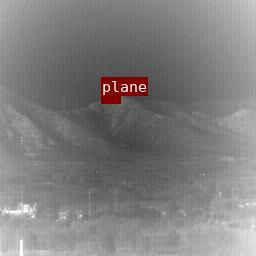plane: (101, 96, 120, 103)
